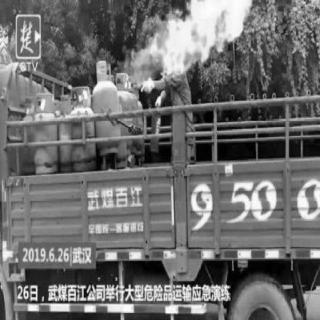other: (182, 76, 318, 317)
